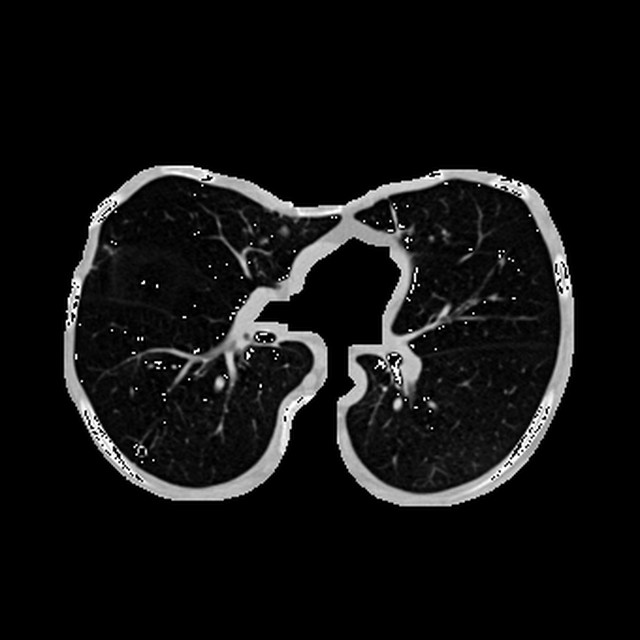PN: (136, 446, 147, 457)
